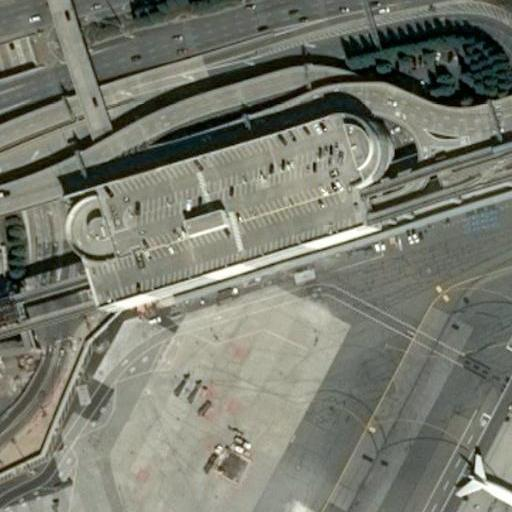Aircraft: (455, 440, 512, 512)
